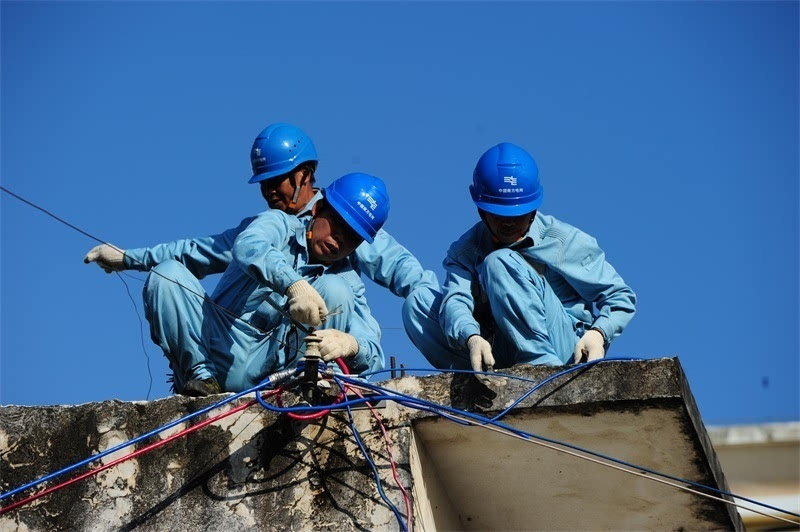blue: (302, 169, 394, 262), (465, 142, 546, 240), (244, 119, 319, 209)
